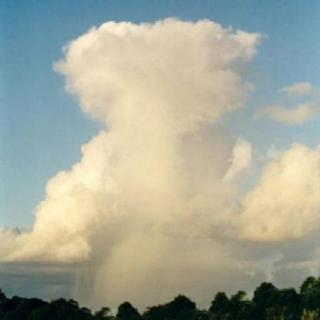Cumulus: (0, 14, 320, 300)
